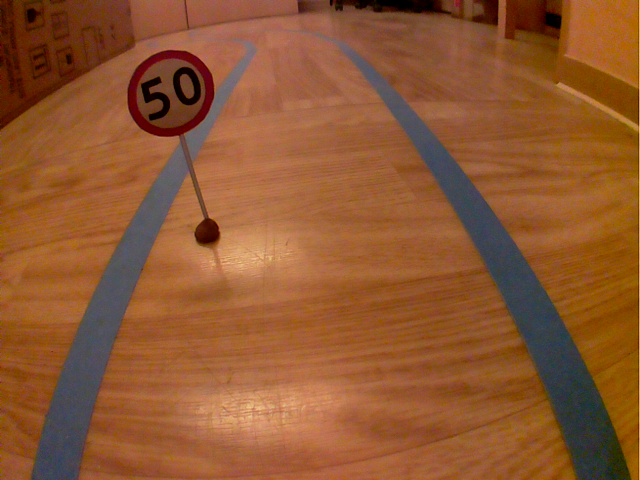Ograniczenie 50: (123, 47, 218, 140)
